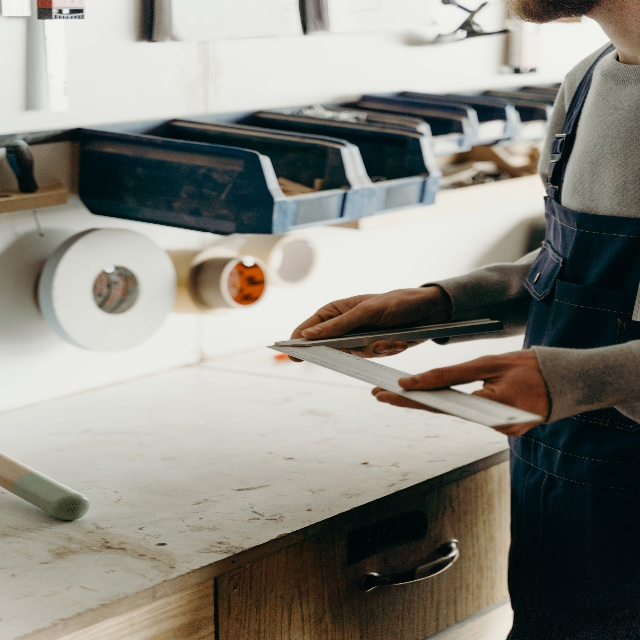Sin_guantes: (369, 350, 549, 438), (285, 293, 439, 365)
